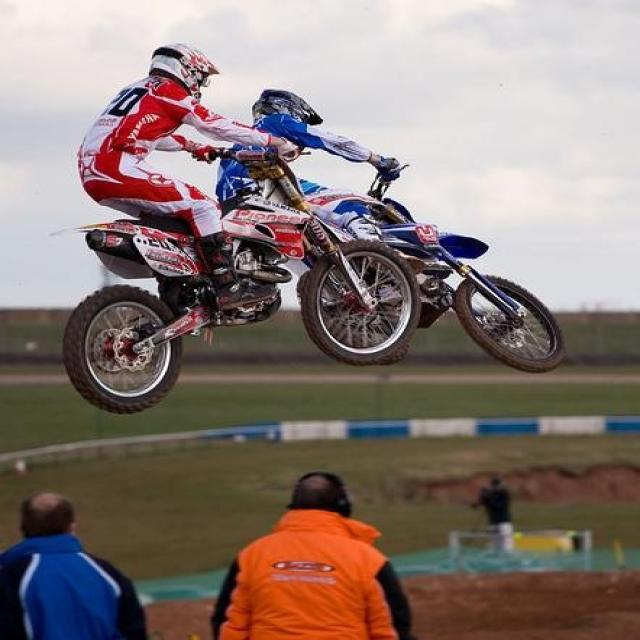Cycle: (46, 138, 424, 417), (244, 156, 572, 376)
